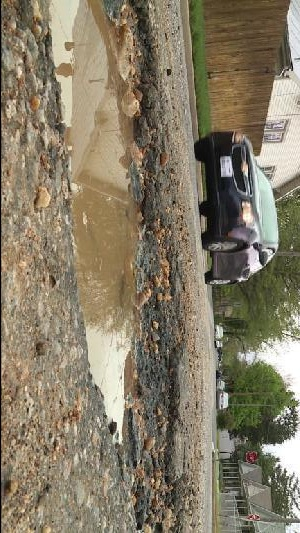pothole: (44, 0, 194, 532)
